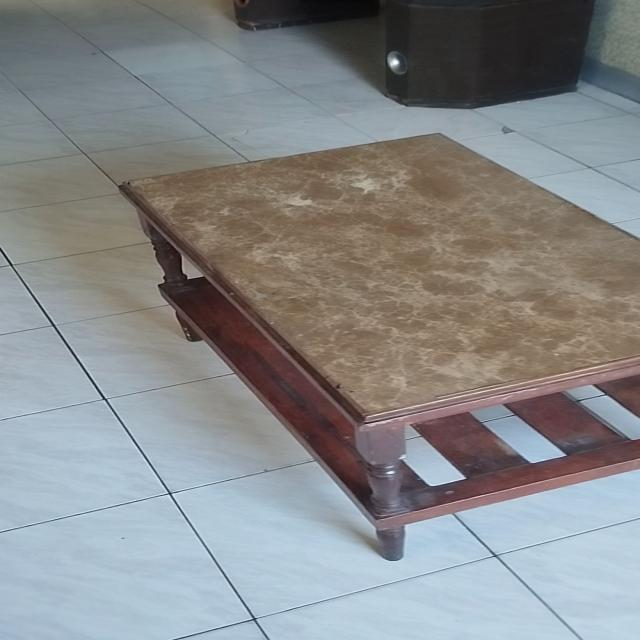table: (111, 132, 640, 564)
